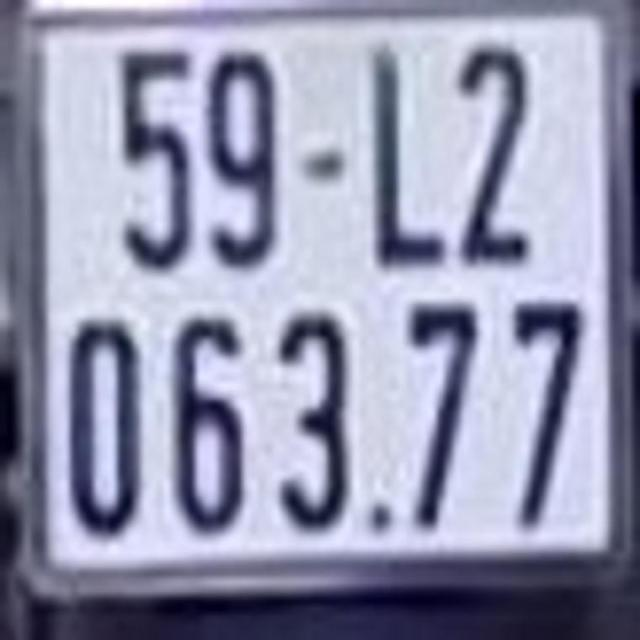0: (63, 319, 148, 538)
2: (454, 34, 530, 268)
3: (276, 303, 351, 530)
5: (116, 47, 199, 272)
6: (172, 309, 246, 538)
7: (404, 296, 480, 535), (512, 295, 583, 528)
9: (206, 40, 277, 271)
L: (357, 42, 451, 269)
